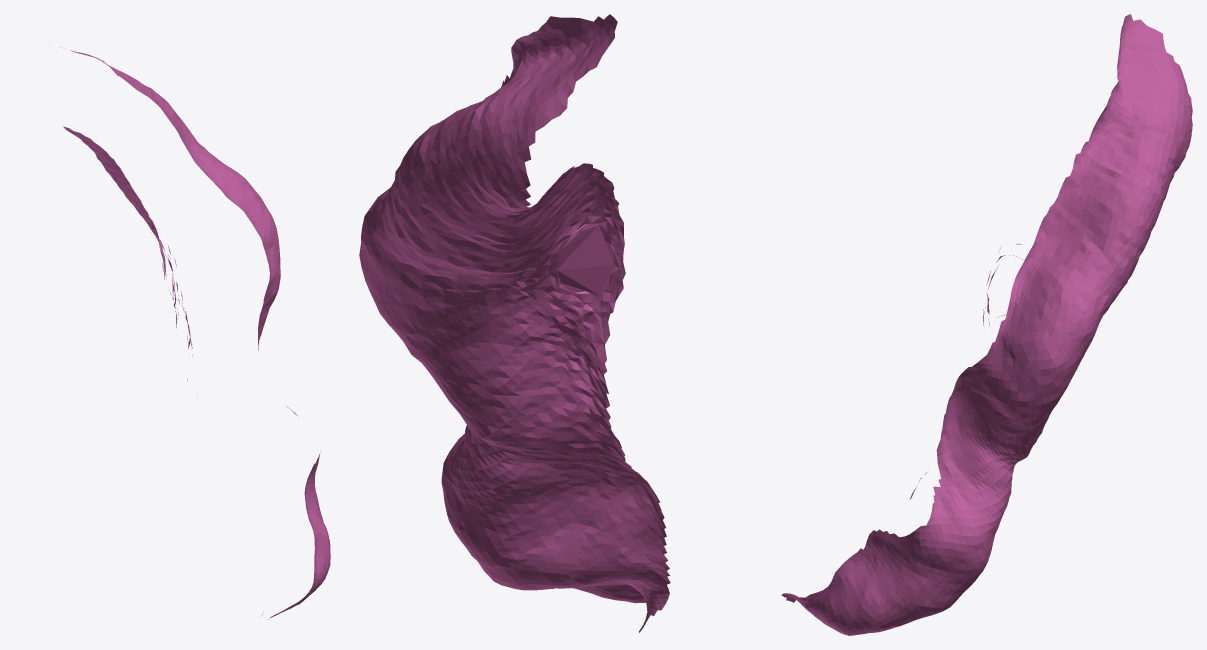
The model's file is rh_inferiortemporal.glb.
3 renders of one model, left to right at view 1: azimuth 30°, elevation 25°; view 2: azimuth 150°, elevation 25°; view 3: azimuth 270°, elevation 25°, orthographic. The views are drawn at different scales.
Parts seen in each view (by area): view 1: world; view 2: world; view 3: world.
Boxes of the visible parts, x1,y1,x2,y2 form: world: [61, 47, 330, 619]; world: [359, 14, 670, 632]; world: [781, 14, 1192, 635].
Bounding box in the file's own units: 30.65 × 73.13 × 48.92.
